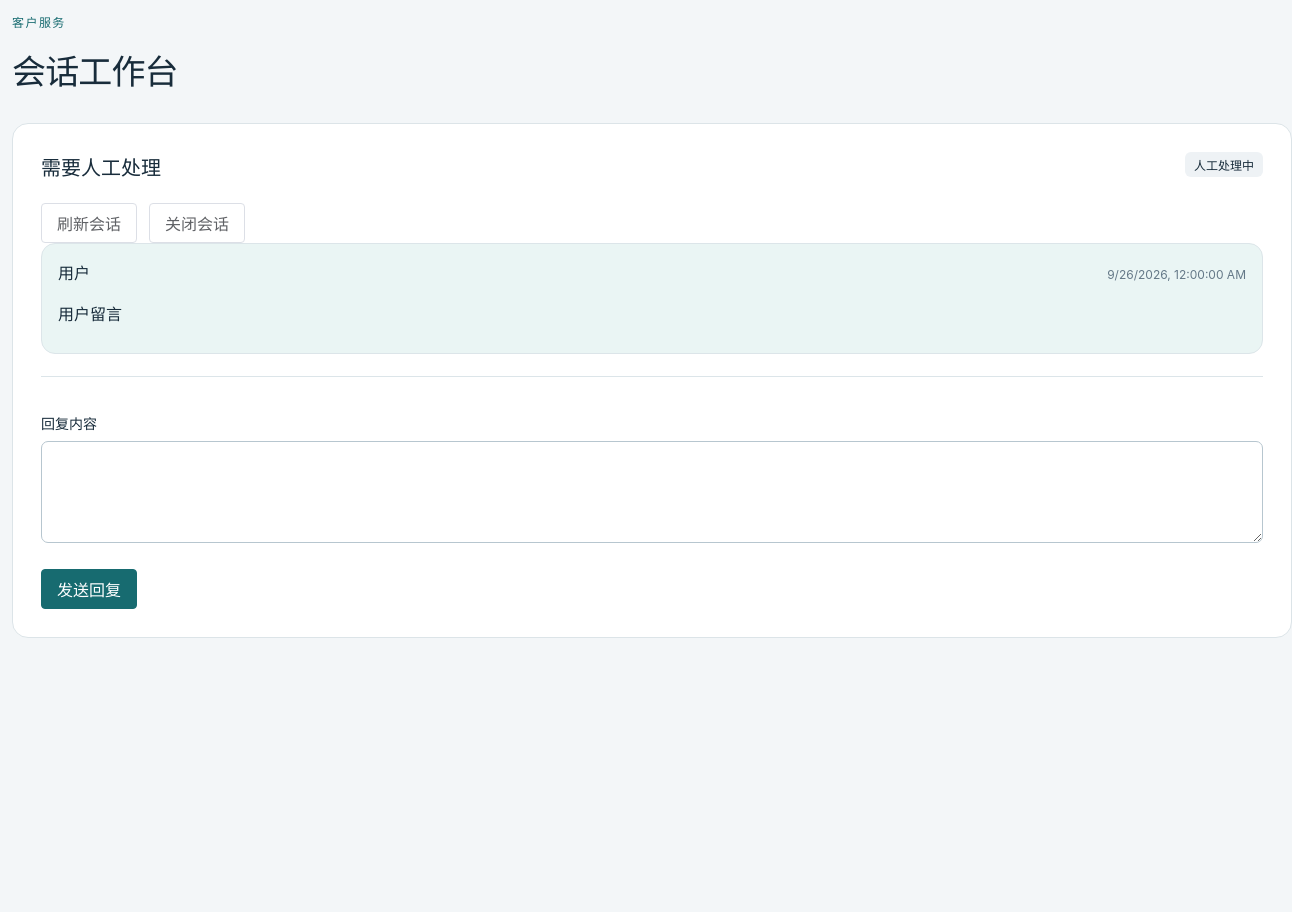
shows claimed history, sends agent text without AI, and closes read-only
This screenshot has width=1292, height=912.
Type "客服回复" into the text box named "回复内容" at (652, 492), box [41,441,1263,543]
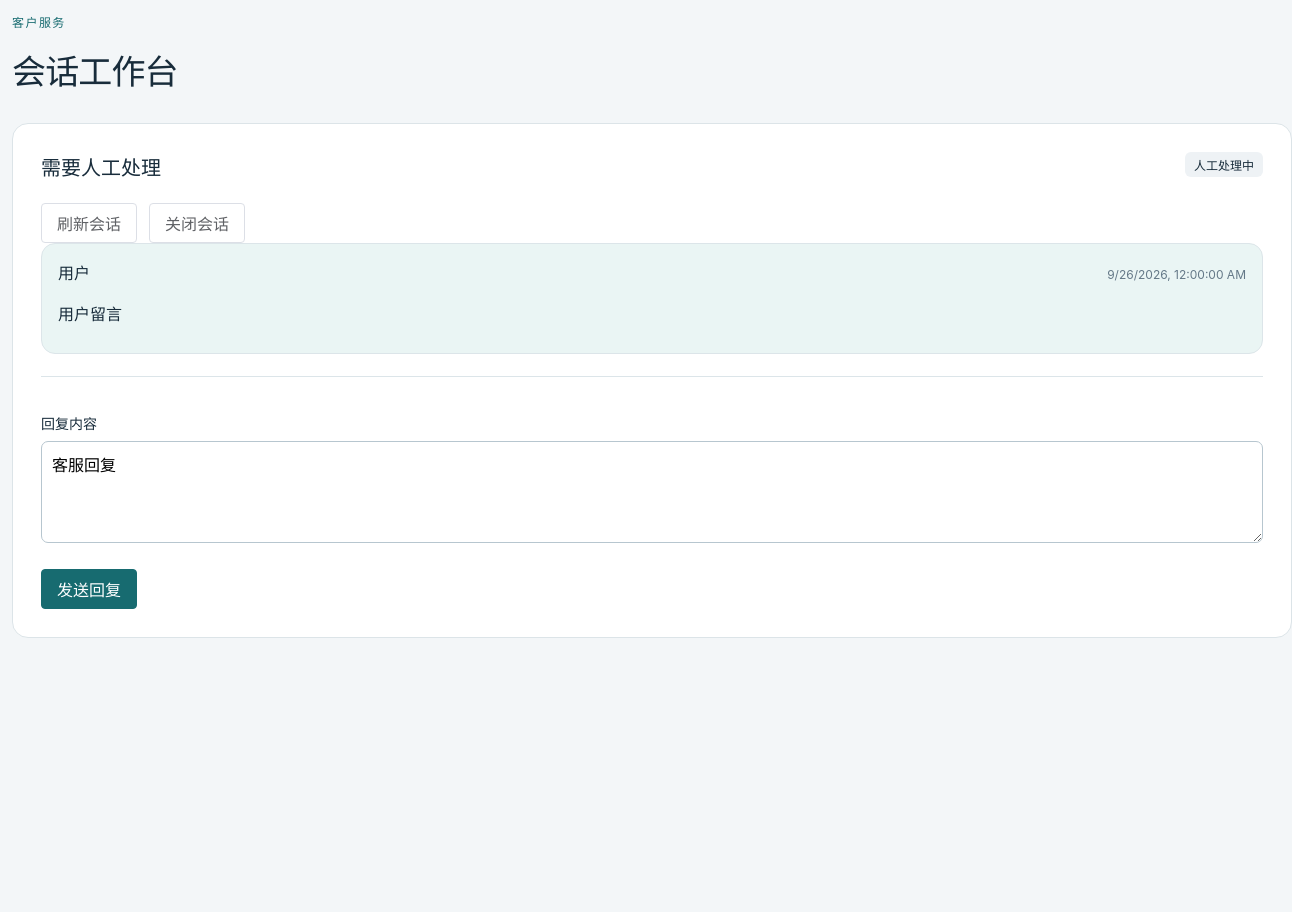
Submit the form, box [41,376,1263,609]
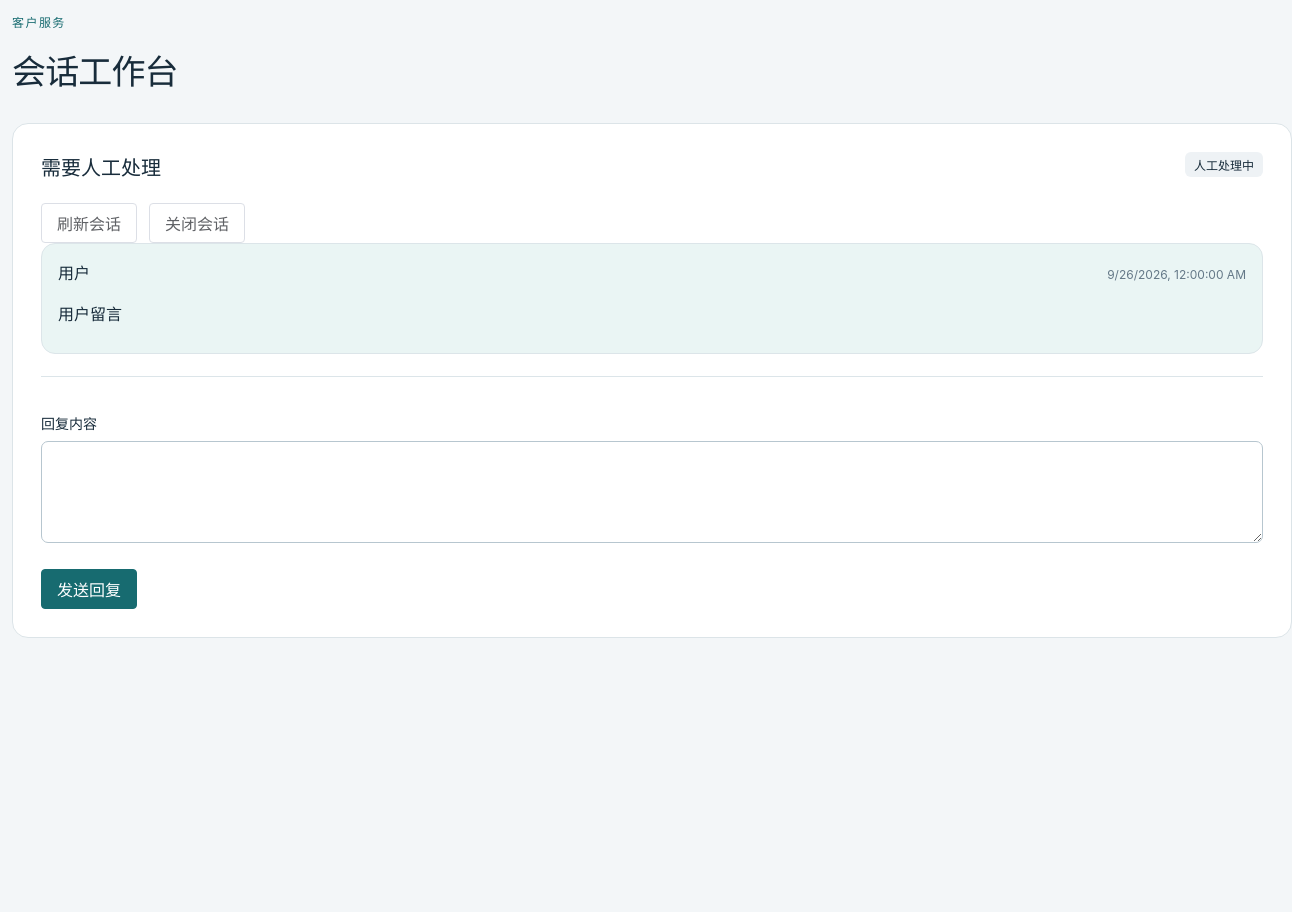
Click the button "关闭会话" at (197, 223), box [149,203,245,243]
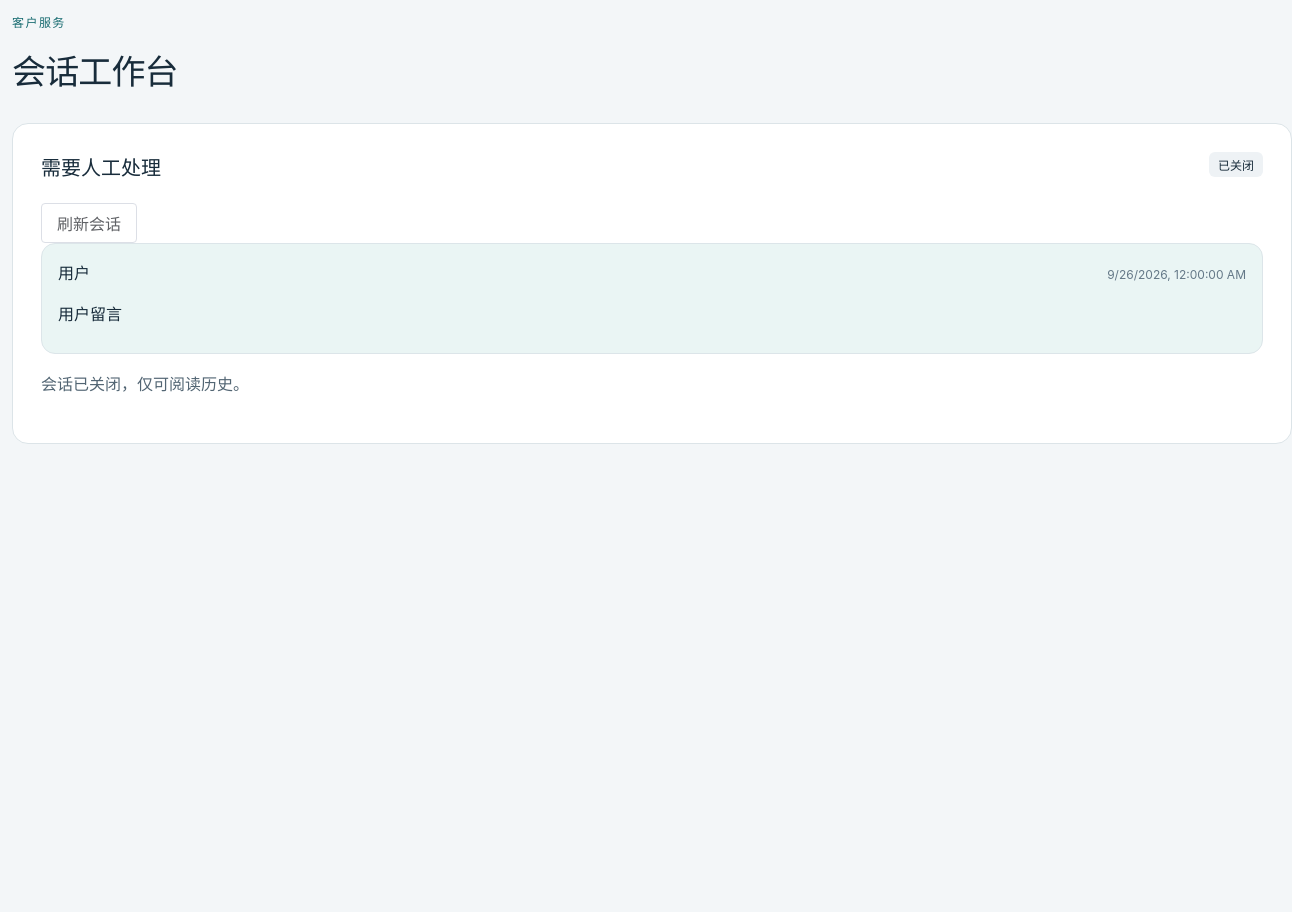
Result: the text "已关闭" is shown at [1209,152,1263,177]
